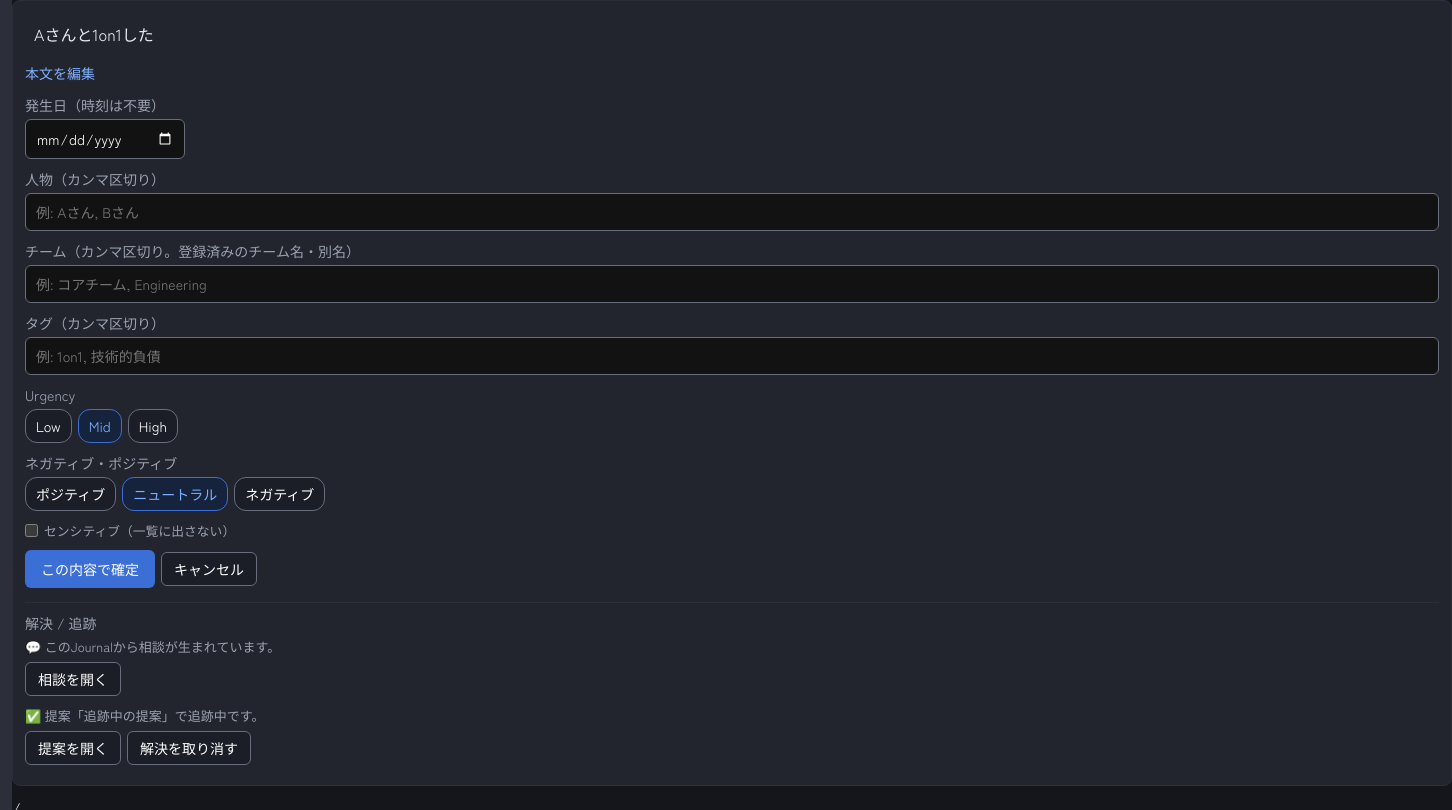
JournalEntryCard（編集モード） › sourceConsultRunIdがあれば編集中でも相談へのリンクを出す
The image size is (1452, 810).
Expected: the text "💬 このJournalから相談が生まれています。" is shown, top-left (25, 637), bottom-right (280, 656)
Expected: the button "提案を開く" is shown, top-left (25, 731), bottom-right (121, 765)
Click the button "相談を開く".
click(73, 679)  # box top-left (25, 662), bottom-right (121, 696)
(page scrolled)
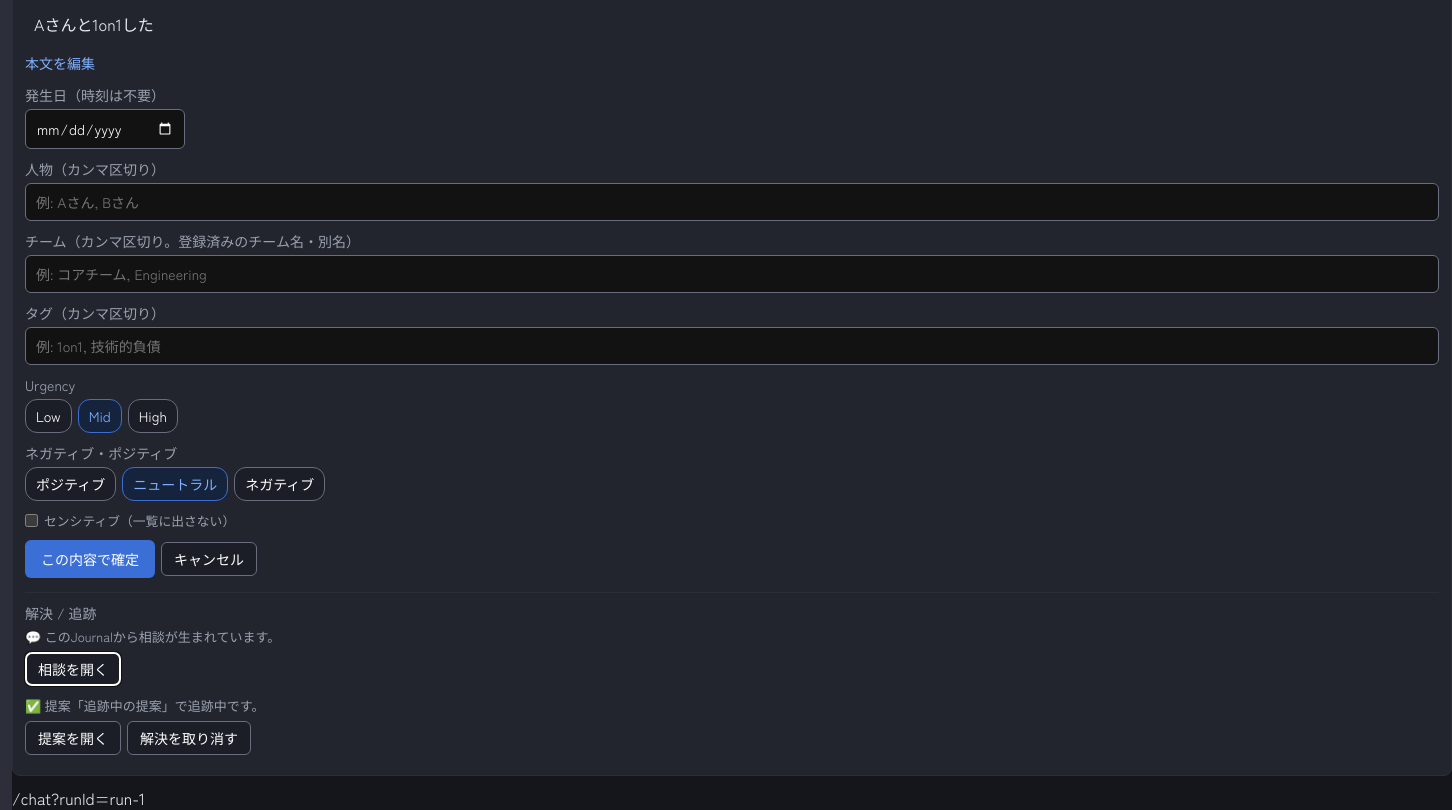
Now the text with test id "location" reads "/chat?runId=run-1", box top-left (12, 786), bottom-right (145, 809)
